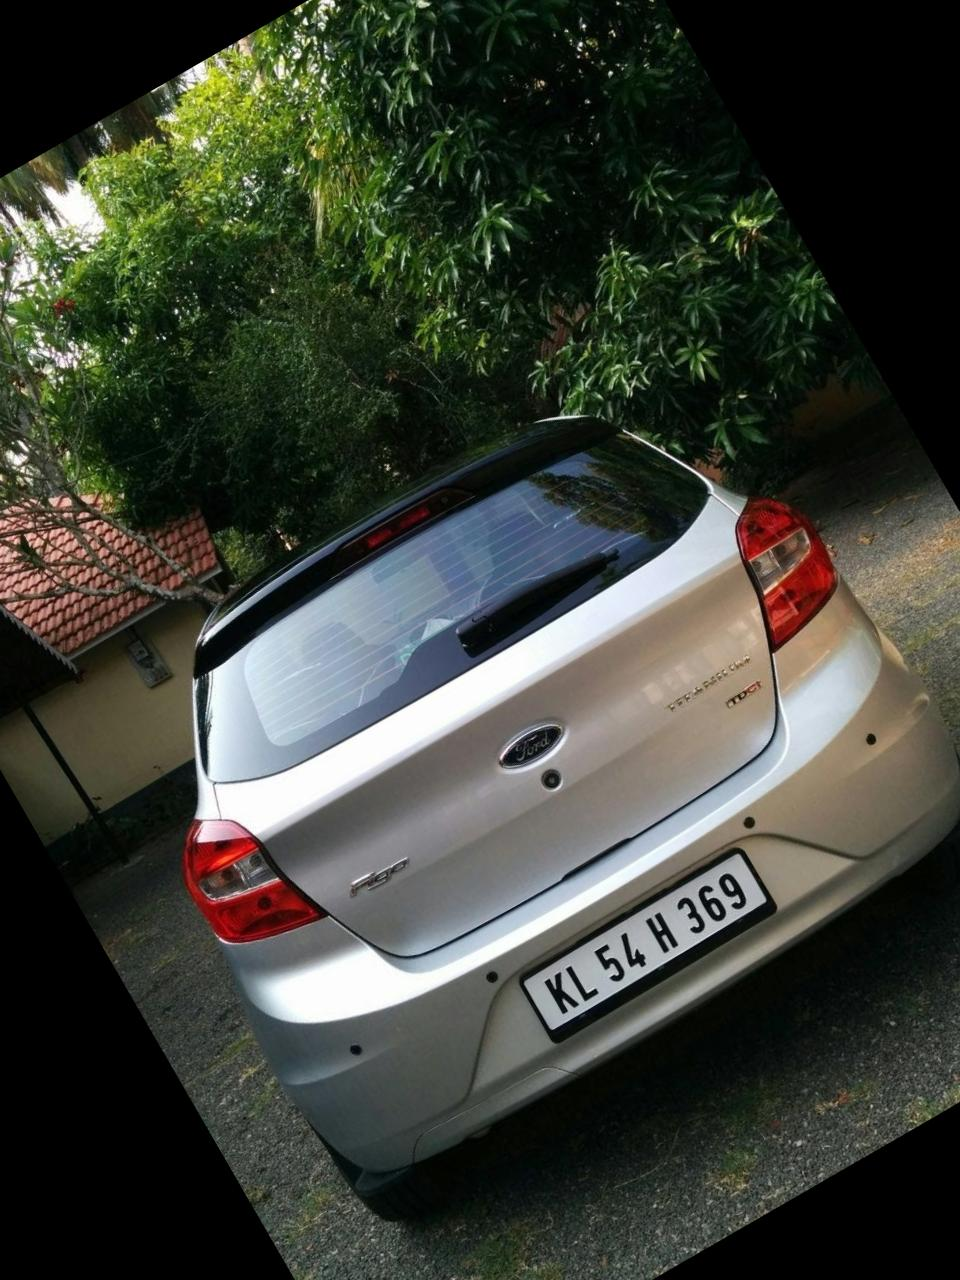plate: (499, 811, 834, 1078)
